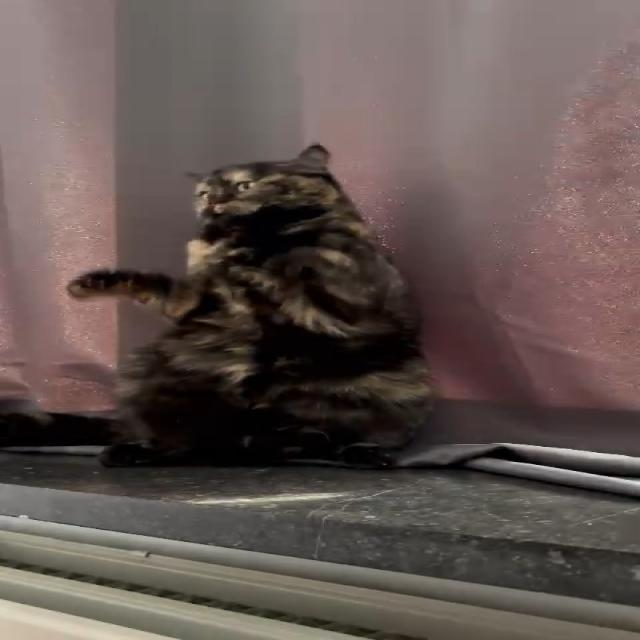authorized: (64, 142, 437, 468)
